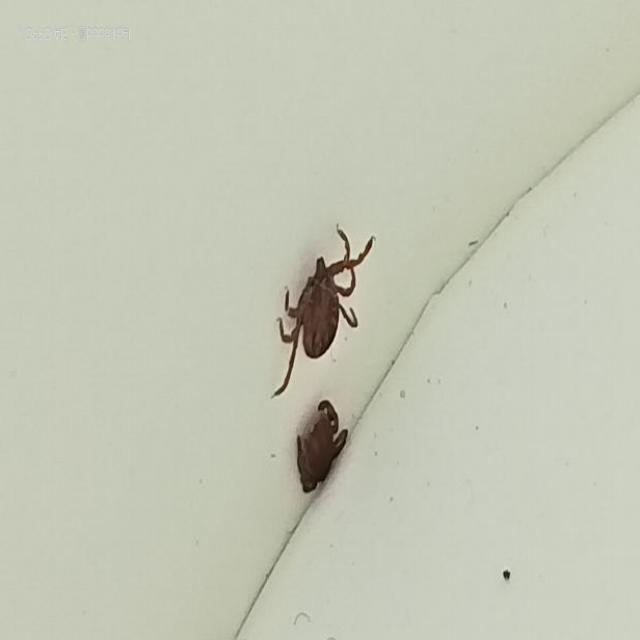Rhipicephalus Sanguineus-M: (273, 226, 376, 396), (293, 398, 350, 495)
